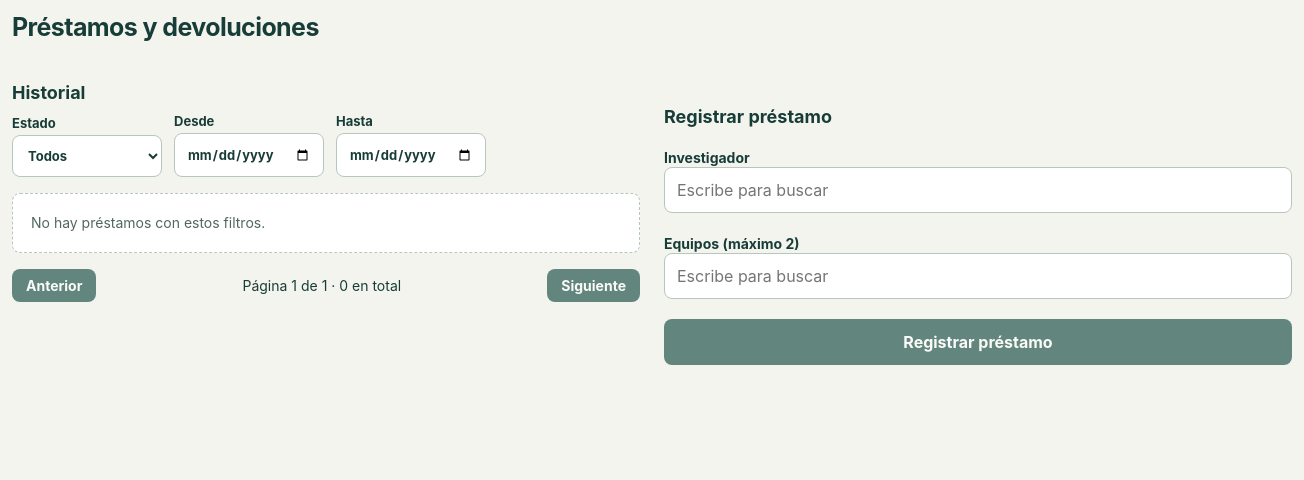
it: shows the business error when the loan is rejected
expect the text "No hay préstamos con estos filtros." is shown: met, box top-left (12, 193), bottom-right (640, 253)
Type "ana" into the search field labelled "Investigador" at (978, 190), box top-left (664, 167), bottom-right (1292, 213)
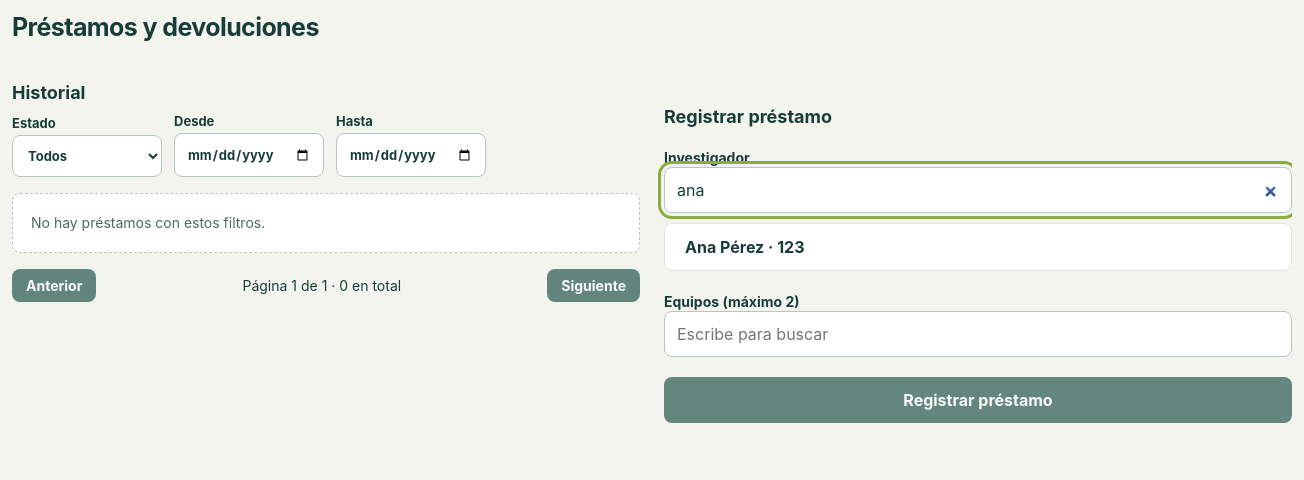
Click the button "Ana Pérez · 123" at (745, 247), box top-left (664, 223), bottom-right (1292, 271)
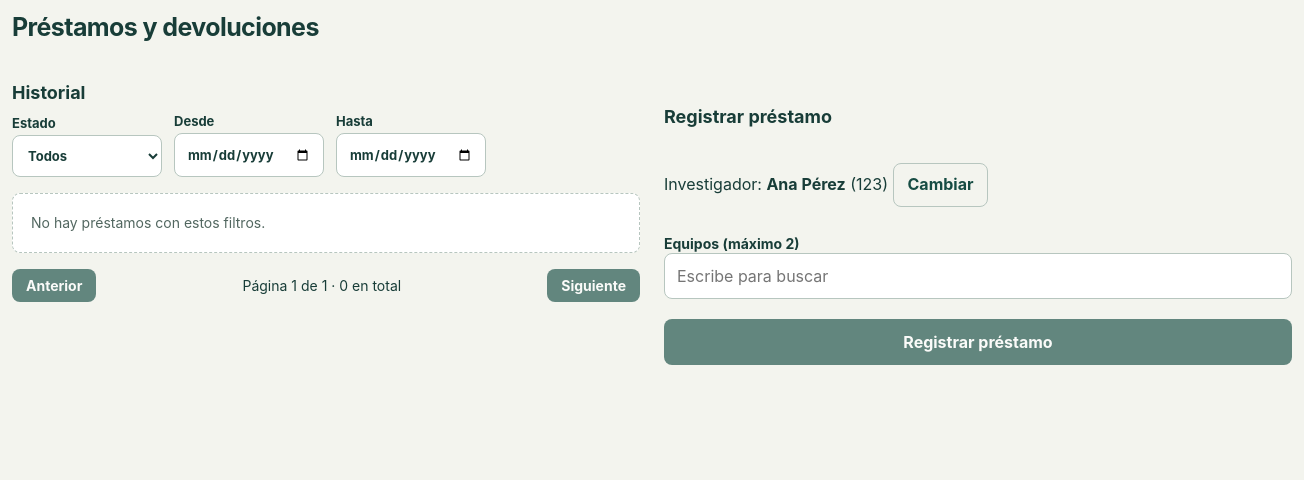
Type "m" into the search field labelled "Equipos (máximo 2)" at (978, 276), box top-left (664, 253), bottom-right (1292, 299)
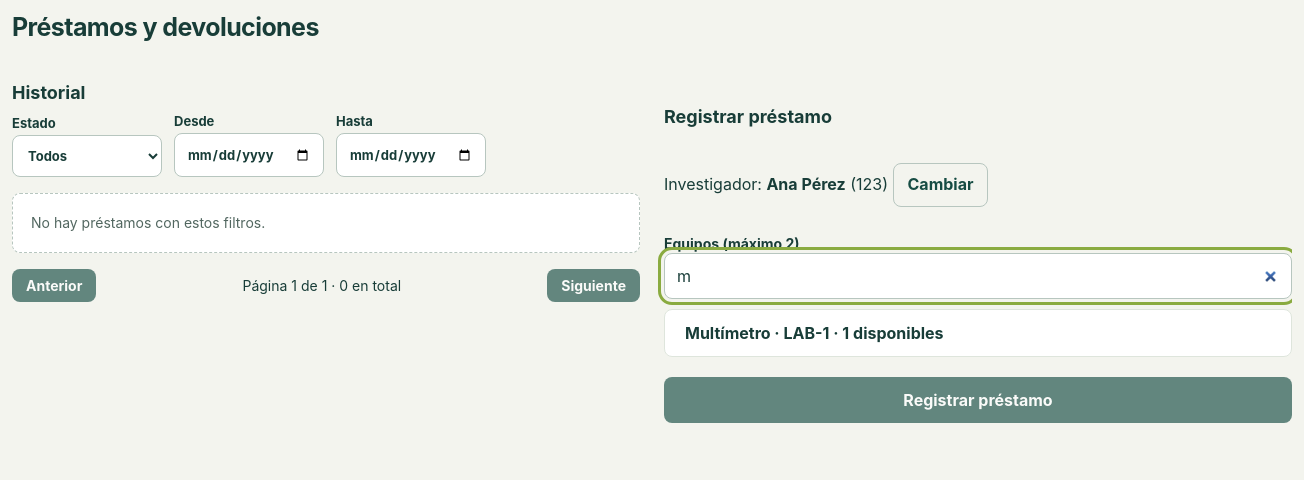
Click the button "Multímetro · LAB-1 · 1 disponibles" at (814, 333), box top-left (664, 309), bottom-right (1292, 357)
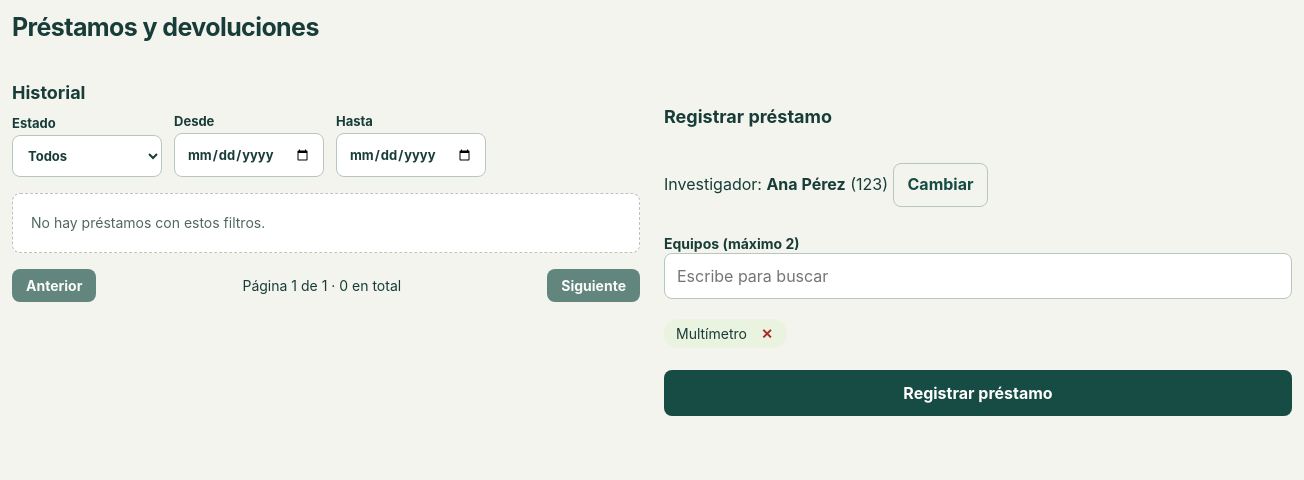
Click the button "Registrar préstamo" at (978, 393), box top-left (664, 370), bottom-right (1292, 416)
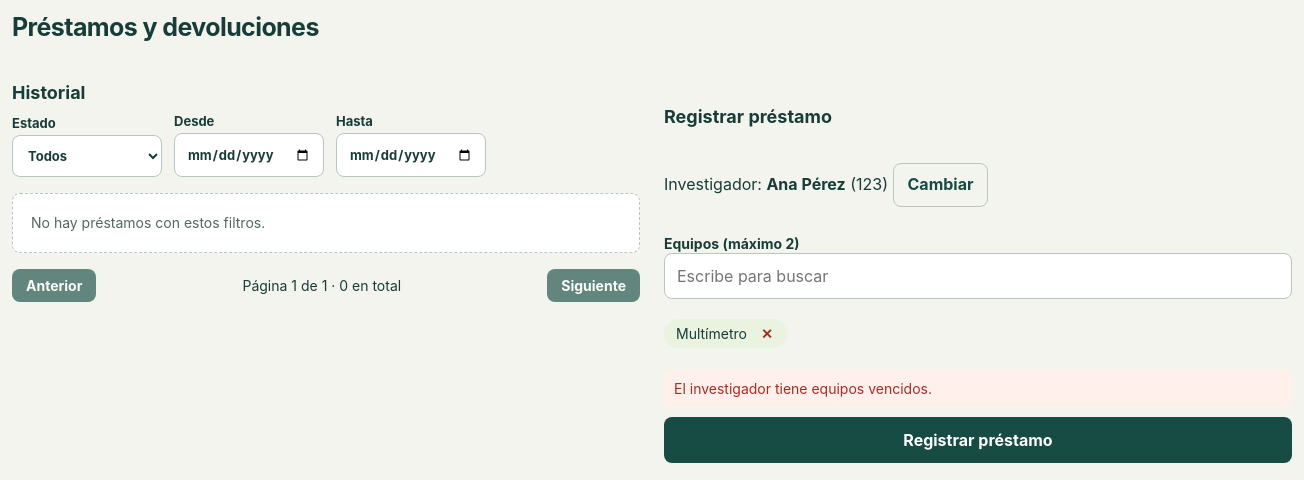
expect the message reads "El investigador tiene equipos vencidos.": met, box top-left (674, 380), bottom-right (932, 397)
